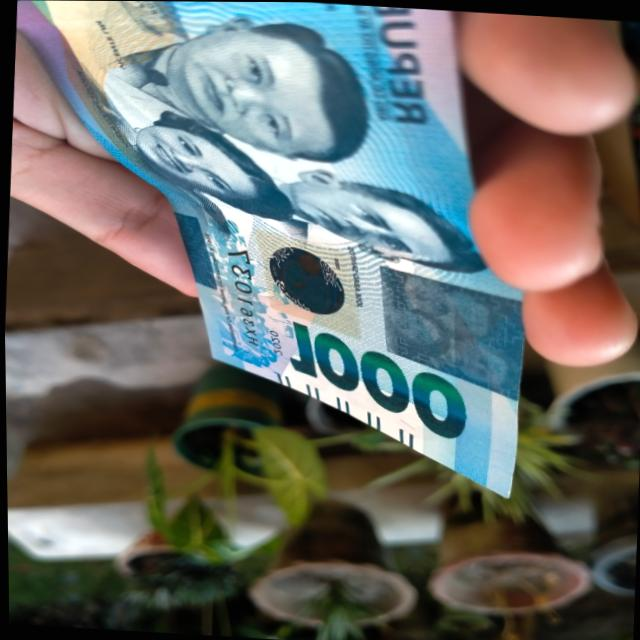concealed_value: (379, 266, 519, 399)
optically_variable_device: (252, 231, 358, 341)
serial_number: (223, 241, 262, 350)
value: (279, 315, 479, 455)
